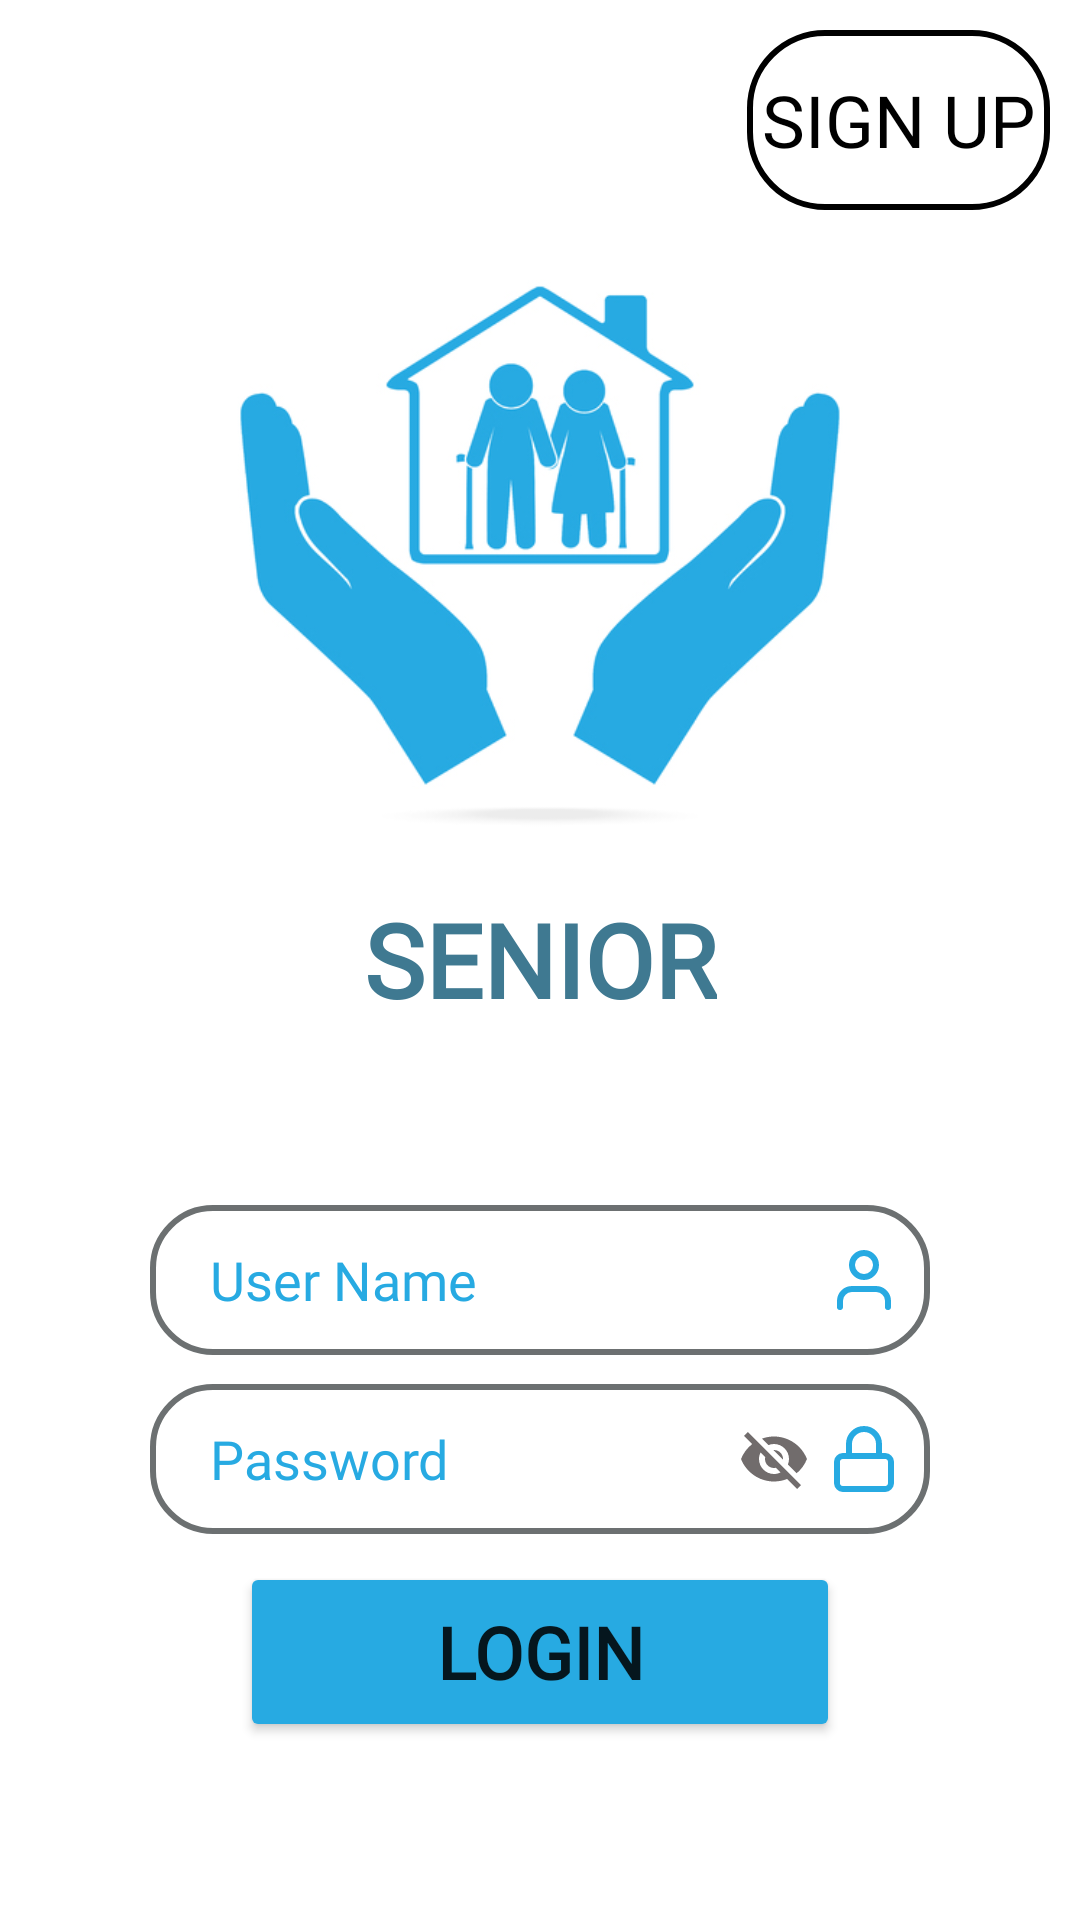

Icon click points for this 1080*1920 phone screenshot, format (x=x, y=y):
visibility off: (x=774, y=1460)
